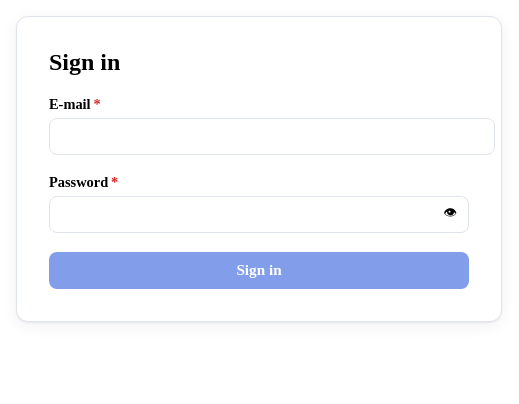
Test: LoginForm › shows the API error
Type "a@b.c" into the field labelled "E-mail*" at (272, 137), box [49, 118, 495, 155]
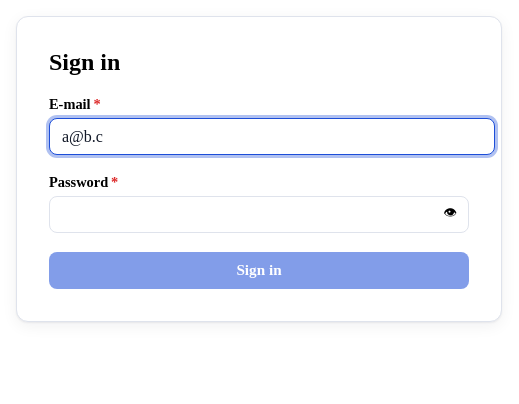
Type "bad" into the password field labelled "Password*" at (259, 214), box [49, 196, 469, 233]
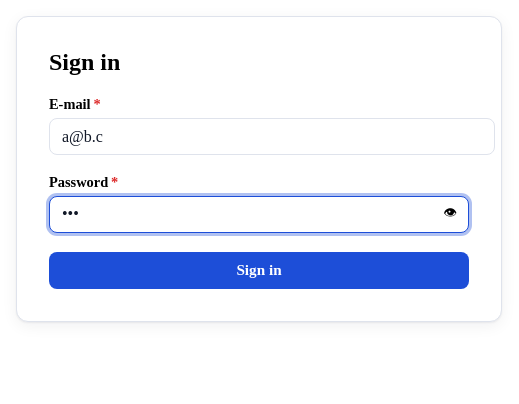
Click the button "Sign in" at (259, 270), box [49, 252, 469, 289]
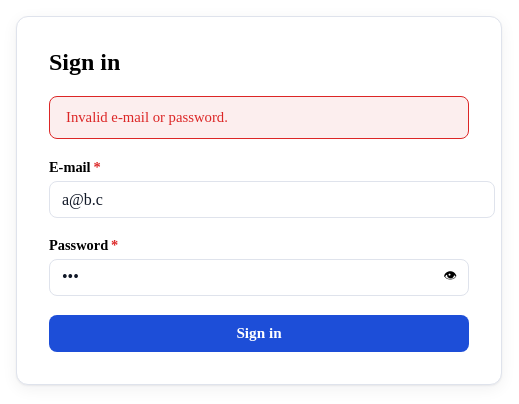
Expected: the message reads "Invalid e-mail or password.", [66, 109, 228, 125]
